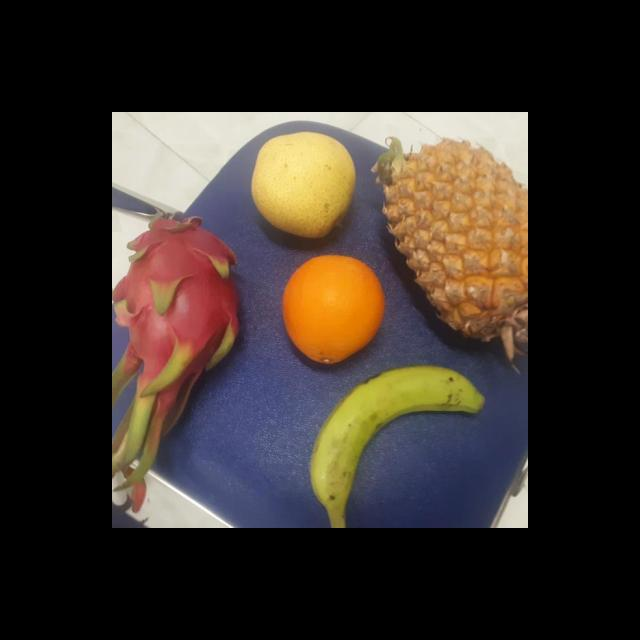banana: (308, 360, 483, 512)
orange: (276, 252, 384, 363)
pear: (248, 125, 355, 236)
pitaya: (112, 218, 239, 388)
